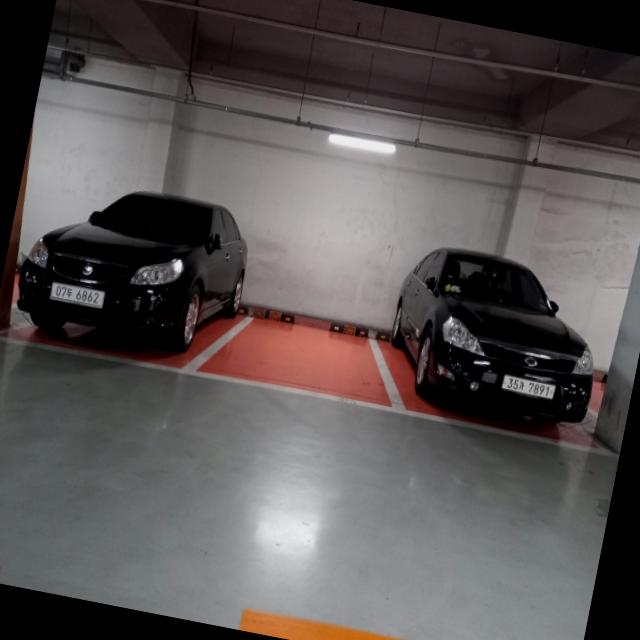car: (16, 192, 248, 353), (390, 247, 595, 424)
free: (183, 313, 400, 412)
